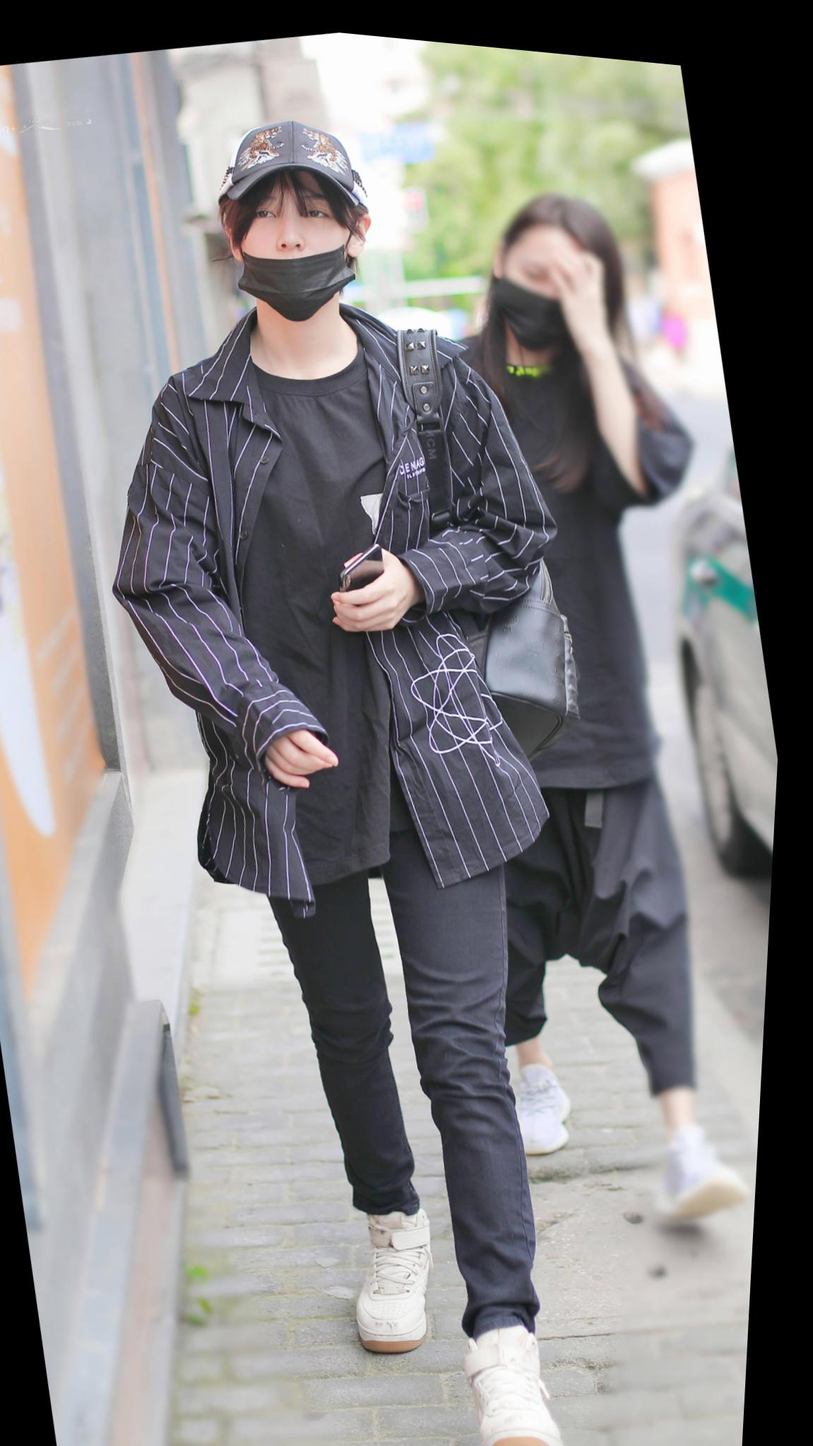OK: (492, 222, 597, 350)
WRONG: (228, 161, 366, 326)
